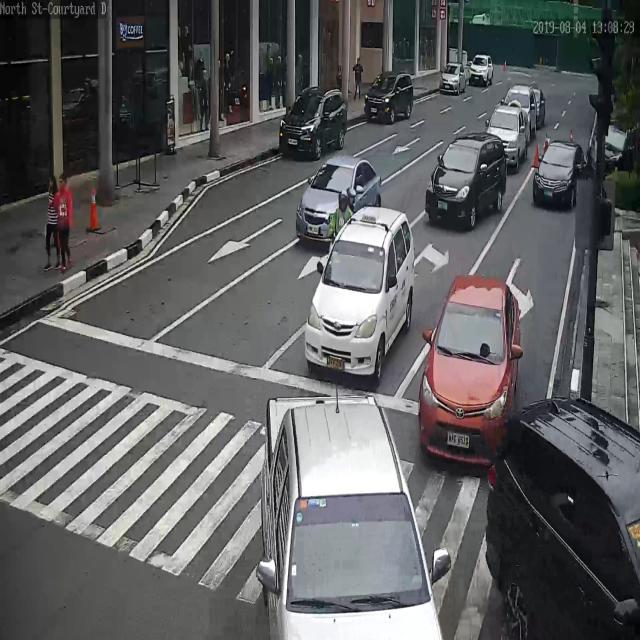car: (261, 396, 443, 640), (485, 395, 639, 640), (418, 272, 521, 467), (306, 206, 414, 377), (424, 133, 506, 230), (295, 155, 382, 242), (278, 88, 347, 163), (533, 142, 589, 208), (584, 121, 640, 180), (364, 73, 414, 126), (487, 104, 527, 167), (504, 86, 537, 141), (439, 64, 467, 95), (468, 56, 494, 89), (533, 84, 547, 125)
jeepney: (331, 184, 360, 248)
